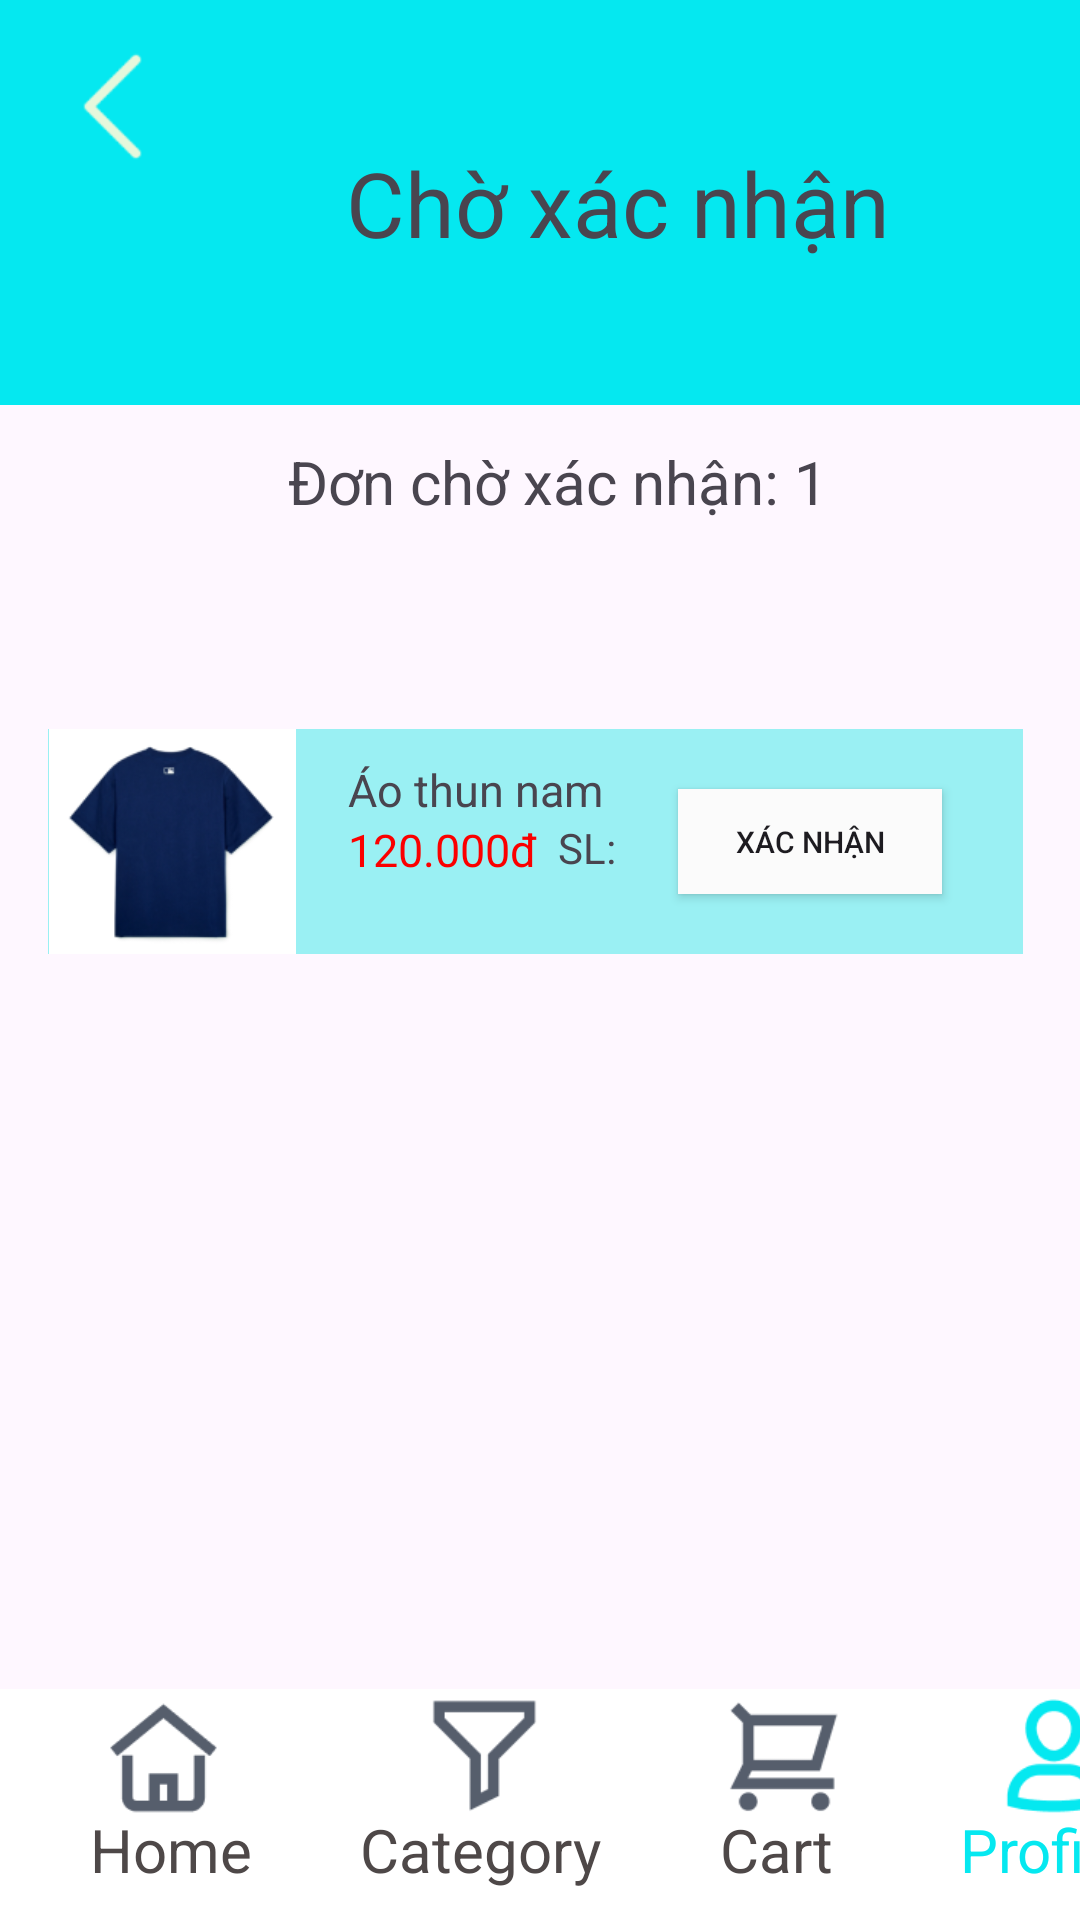

Screen size 1080×1920. Icon name, then its box in pixels as (x1, y1, x2, y2):
aocuatinh: (48, 729, 273, 954)
back: (83, 54, 142, 159)
